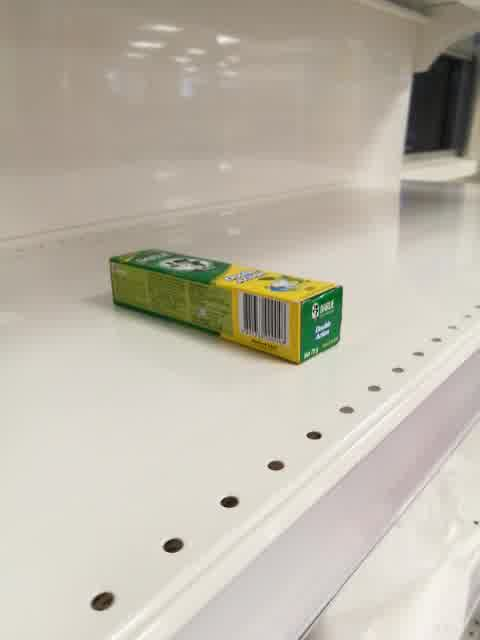toothpaste: (110, 247, 342, 365)
